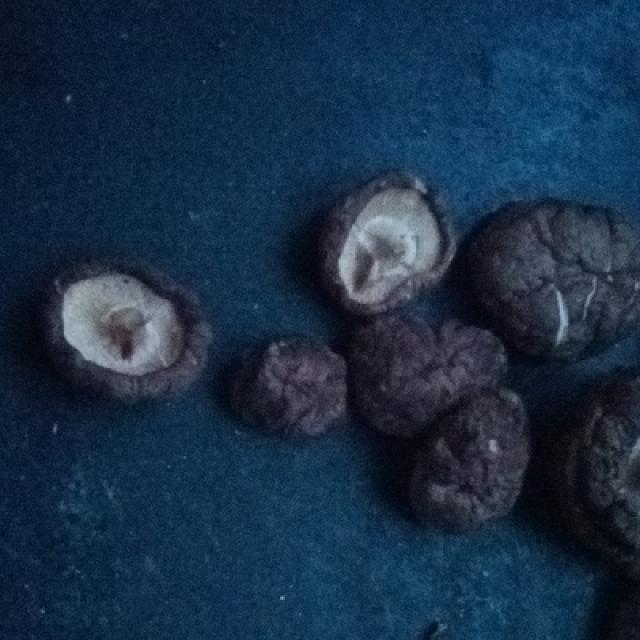Lentinus edodes: (44, 254, 212, 398), (484, 203, 640, 355), (335, 174, 457, 315), (364, 312, 510, 429), (415, 389, 528, 528), (246, 332, 344, 434)
